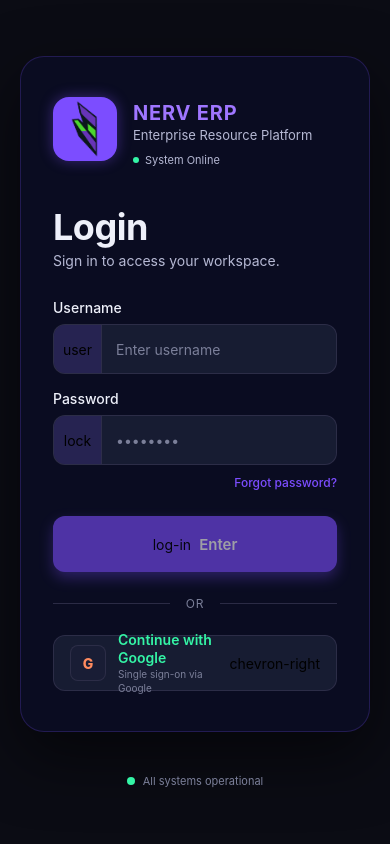
Test: Login › submits credentials and handles failures
Type "shinji" into the field with test id "login-username".
click(225, 349); type("shinji")  # box [102, 328, 348, 370]
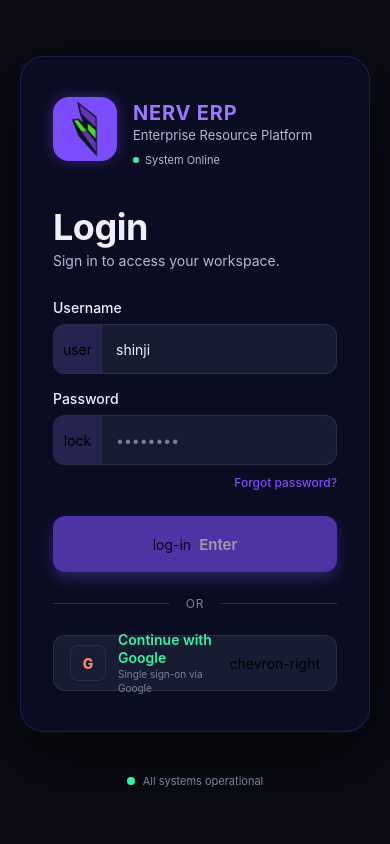
Type "unit-01" into the password field with test id "login-password".
click(225, 440); type("unit-01")  # box [102, 420, 348, 460]
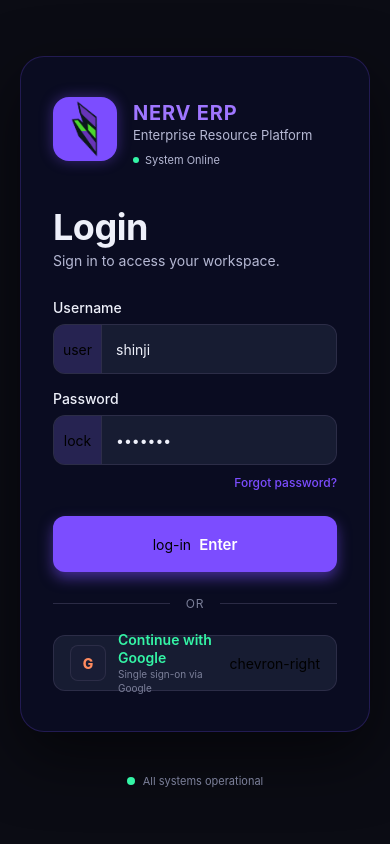
Click the element with test id "login-submit".
click(195, 544)  # box [53, 516, 337, 572]
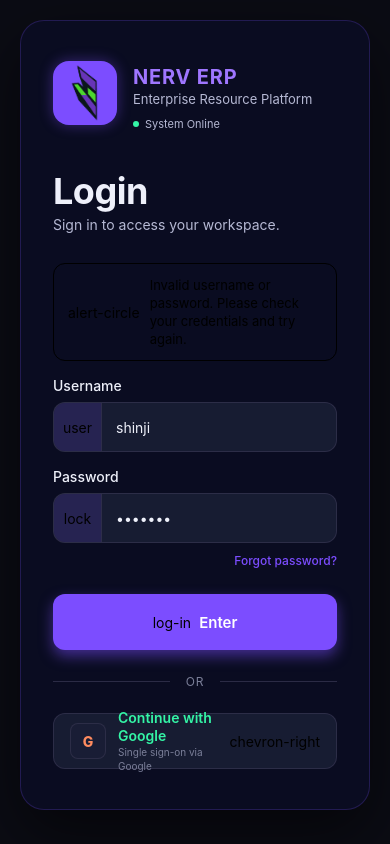
Result: the element with test id "login-error" is shown at [53, 263, 337, 361]
